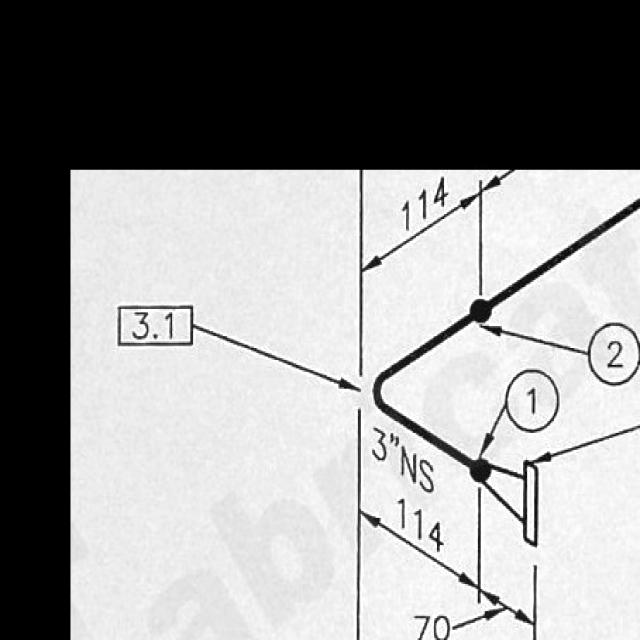Item number: (116, 301, 196, 351)
Measrement: (360, 170, 487, 280), (361, 504, 481, 598), (404, 576, 508, 638), (369, 419, 439, 500)
Pipeline: (370, 194, 638, 407)
Symbol: (480, 448, 548, 556)
Weld number: (503, 363, 562, 437), (585, 317, 639, 392)
